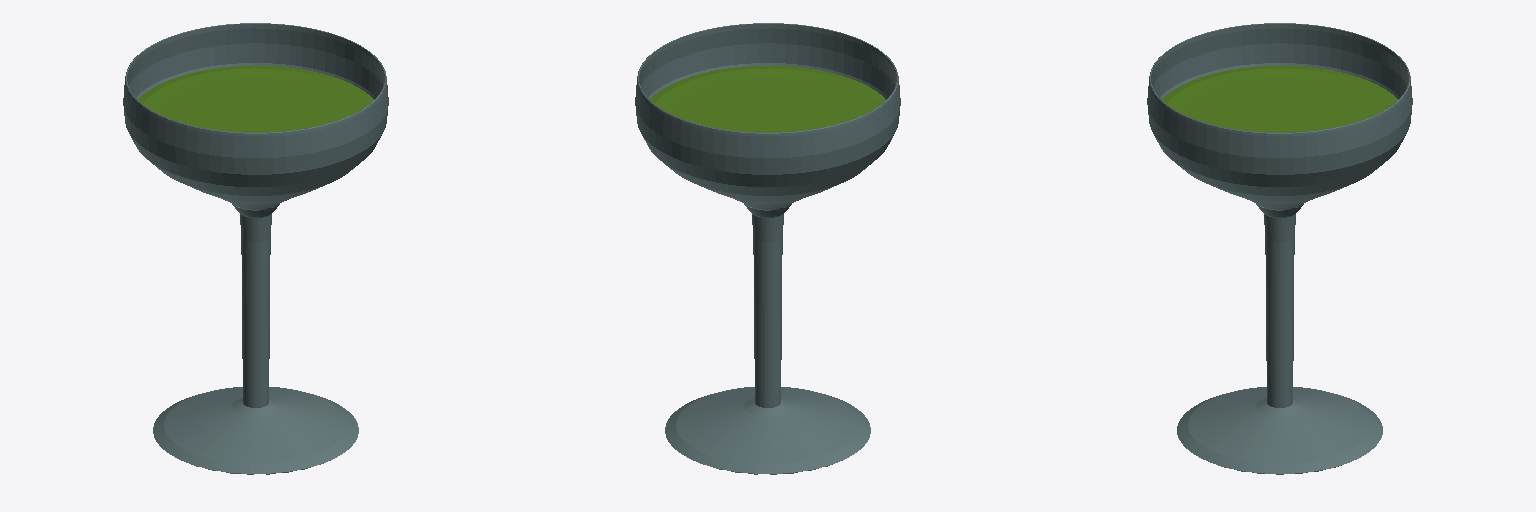
File: martini.obj
3 renders of one model, left to right at view 1: azimuth 30°, elevation 25°; view 2: azimuth 150°, elevation 25°; view 3: azimuth 270°, elevation 25°, orthographic.
Parts seen in each view (by area): view 1: obj2, obj1, obj3, obj5; view 2: obj2, obj1, obj3, obj5; view 3: obj2, obj1, obj3, obj5.
Boxes of the visible parts, x1=… form: obj2: x1=123, y1=24, x2=388, y2=209; obj1: x1=153, y1=204, x2=358, y2=474; obj3: x1=138, y1=66, x2=373, y2=132; obj5: x1=125, y1=23, x2=386, y2=139; obj2: x1=635, y1=24, x2=900, y2=209; obj1: x1=665, y1=204, x2=870, y2=474; obj3: x1=650, y1=66, x2=885, y2=132; obj5: x1=637, y1=23, x2=898, y2=139; obj2: x1=1147, y1=24, x2=1412, y2=209; obj1: x1=1177, y1=204, x2=1382, y2=474; obj3: x1=1162, y1=66, x2=1397, y2=132; obj5: x1=1149, y1=23, x2=1410, y2=139.
Size of the model in its own units: 38.9 by 57.53 by 38.9.